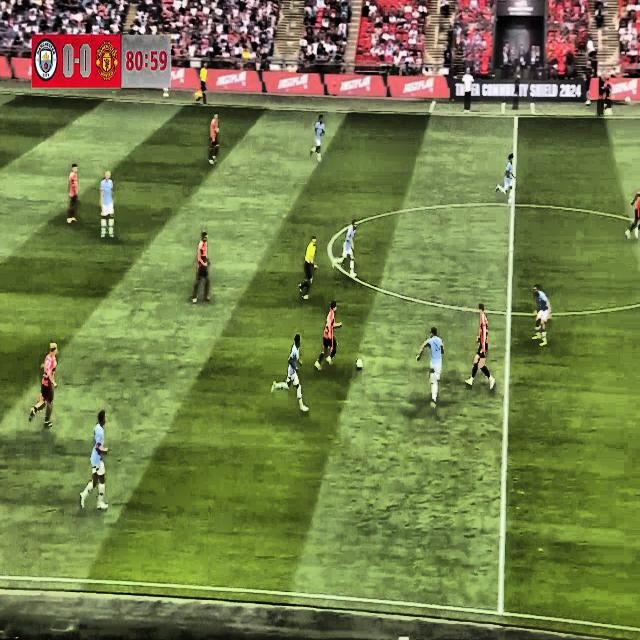ball: (354, 349, 366, 380)
players: (78, 405, 114, 518), (268, 332, 312, 424), (28, 336, 63, 434), (466, 296, 498, 397), (415, 316, 446, 412), (524, 278, 556, 354), (314, 297, 344, 378), (332, 214, 362, 290), (187, 229, 211, 306), (96, 168, 118, 246), (60, 154, 80, 235), (205, 106, 226, 176), (622, 179, 640, 251), (496, 146, 518, 204), (308, 116, 330, 169)
refree: (296, 232, 322, 314), (193, 53, 214, 119)
